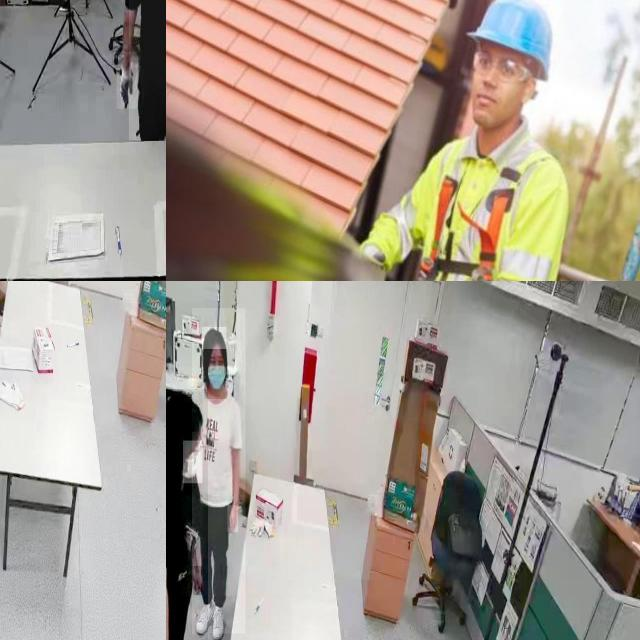Harness: (423, 177, 516, 281)
face_mask: (204, 349, 228, 399), (183, 441, 203, 483)
hand_glove: (116, 52, 138, 110)
hand_noglove: (193, 566, 203, 596), (228, 505, 238, 533)
head_nohelmet: (166, 391, 203, 432), (202, 327, 227, 350)
person: (192, 308, 246, 634), (166, 388, 208, 640)
shoes: (191, 593, 213, 639), (210, 603, 225, 640)
